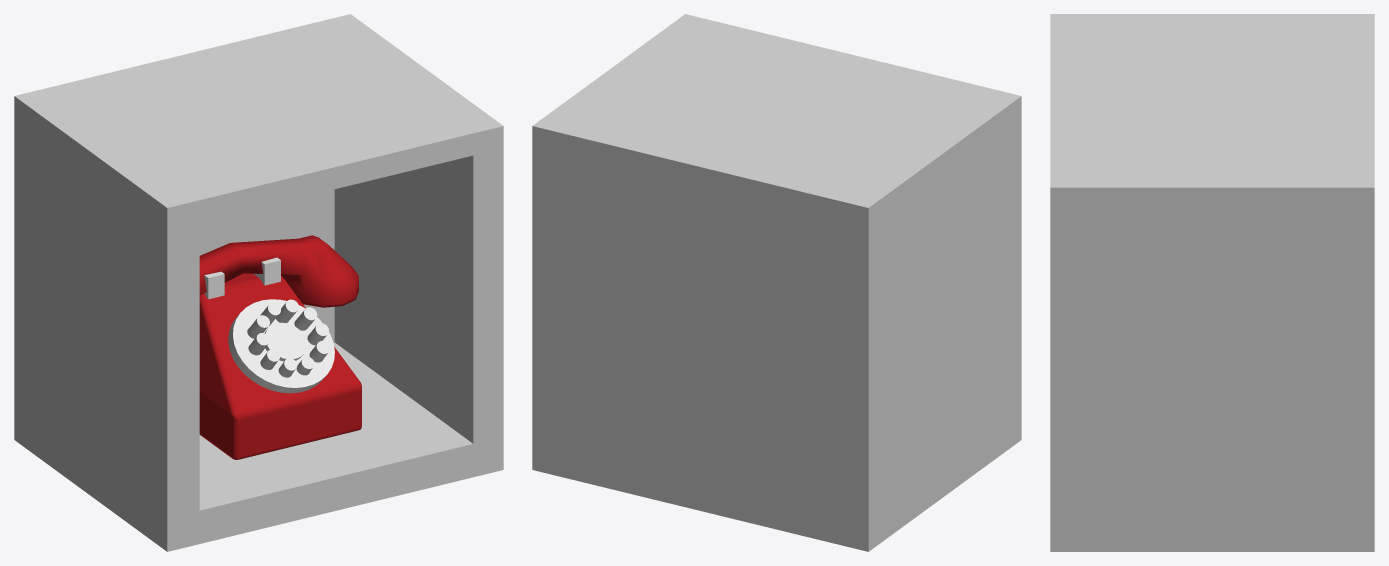
The model's file is phoneInBox.fbx.
The picture shows the model from 3 angles, left to right: view 1: azimuth 30°, elevation 25°; view 2: azimuth 150°, elevation 25°; view 3: azimuth 270°, elevation 25°; orthographic projection. The views are drawn at different scales.
Parts seen in each view (by area): view 1: Cube, Plane, Circle, Circle.001, Cylinder, Plane.001; view 2: Cube; view 3: Cube.
Boxes of the visible parts, bbox=[...] form: Cube: bbox=[14, 14, 503, 551]; Plane: bbox=[199, 273, 361, 459]; Circle: bbox=[199, 235, 358, 307]; Circle.001: bbox=[228, 299, 334, 393]; Cylinder: bbox=[247, 299, 330, 377]; Plane.001: bbox=[204, 257, 280, 299]; Cube: bbox=[532, 14, 1021, 551]; Cube: bbox=[1050, 14, 1374, 551].
Size of the model in its own units: 519 by 507 by 409.
